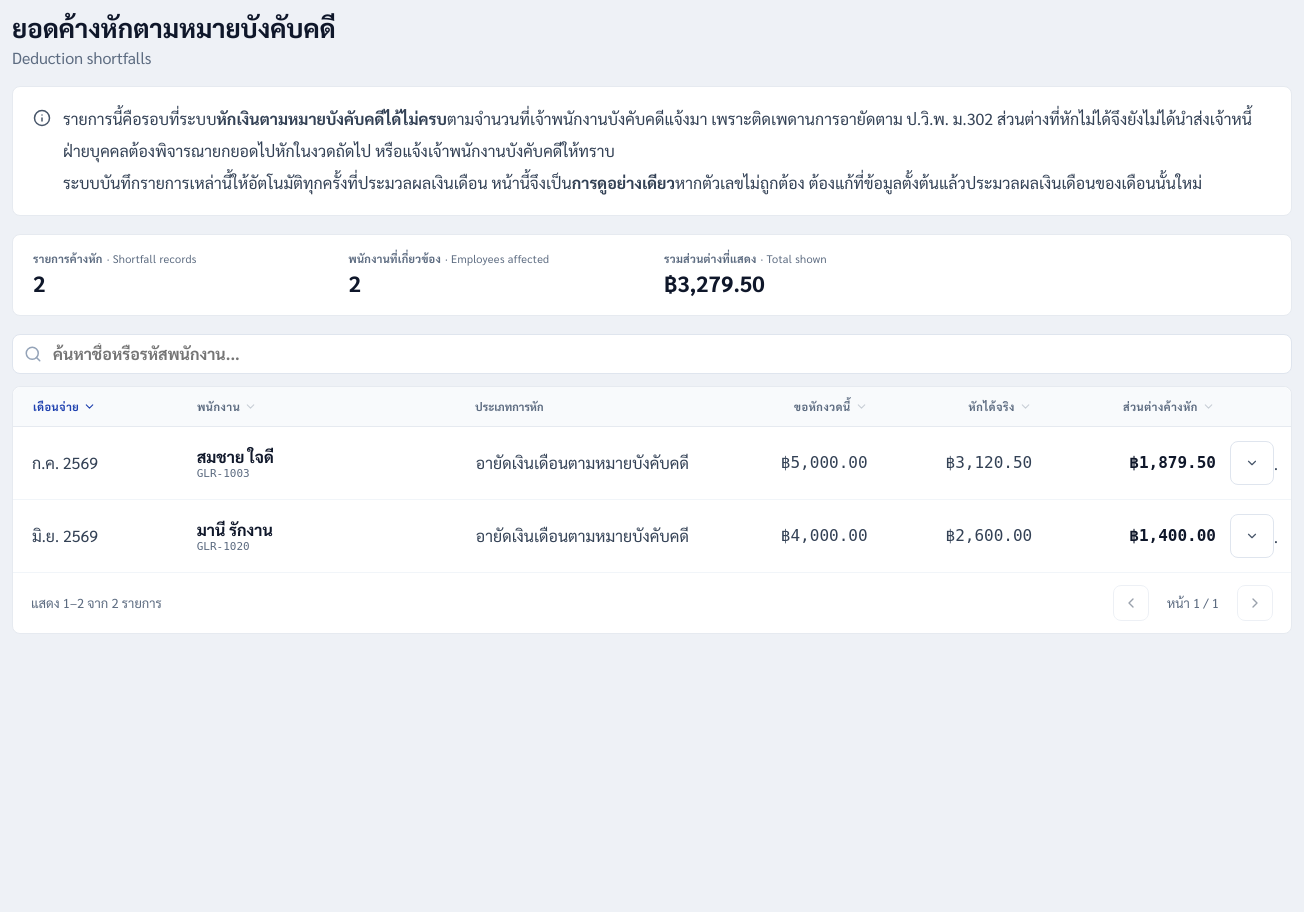
Test: DeductionShortfallsPage › keeps the long legal reason behind a per-row disclosure
Expected: the text "สมชาย ใจดี" is shown, 197,446 -> 274,467
Click the button named "ดูเหตุผลที่หักไม่ครบของ สมชาย ใจดี" at (1252, 463), box 1230,441 -> 1274,485
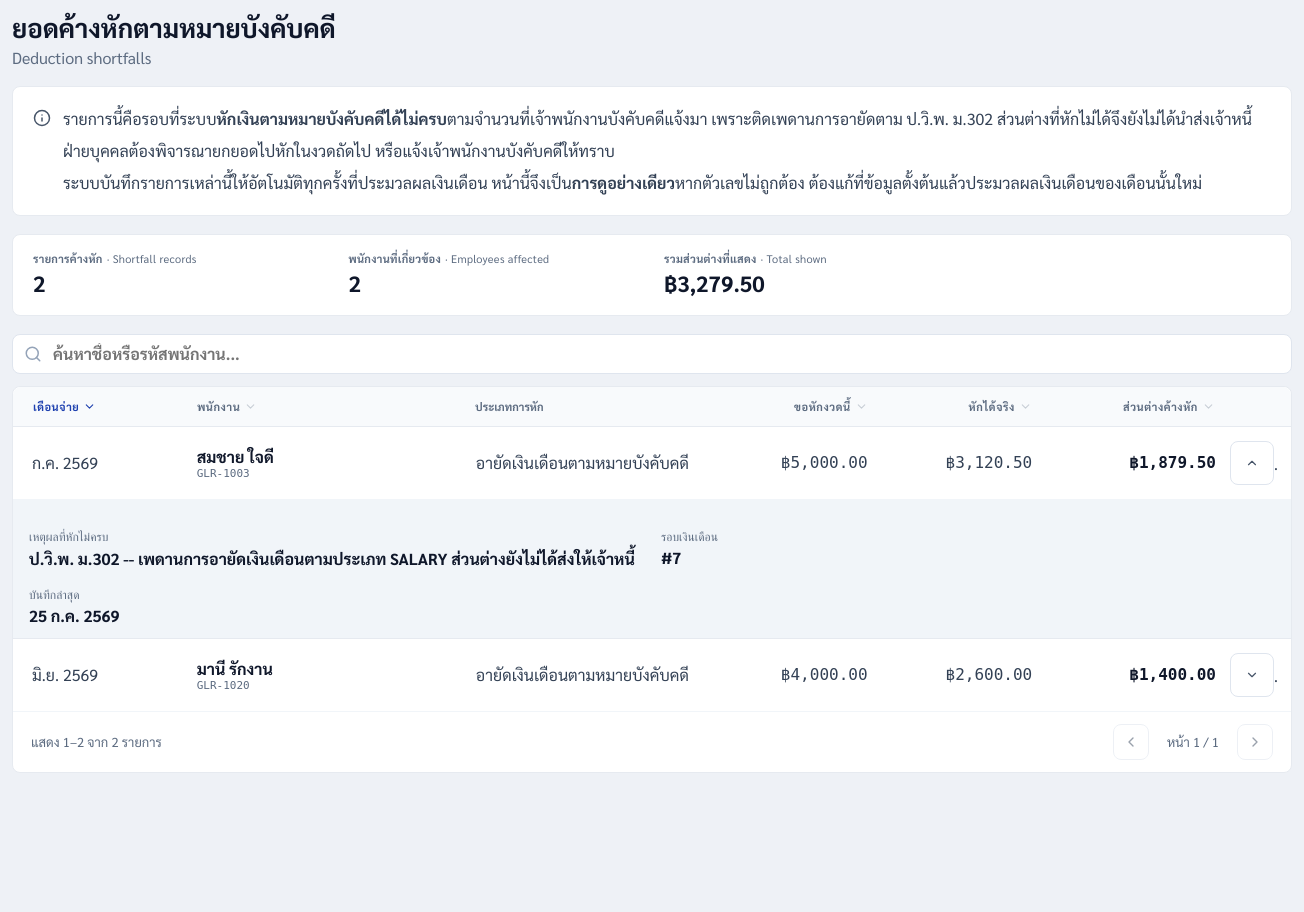
Expected: the text "ส่วนต่างยังไม่ได้ส่งให้เจ้าหนี้" is shown, 29,548 -> 635,569
Expected: the button named "ซ่อนเหตุผลที่หักไม่ครบของ สมชาย ใจดี" is expanded, 1230,441 -> 1273,485
